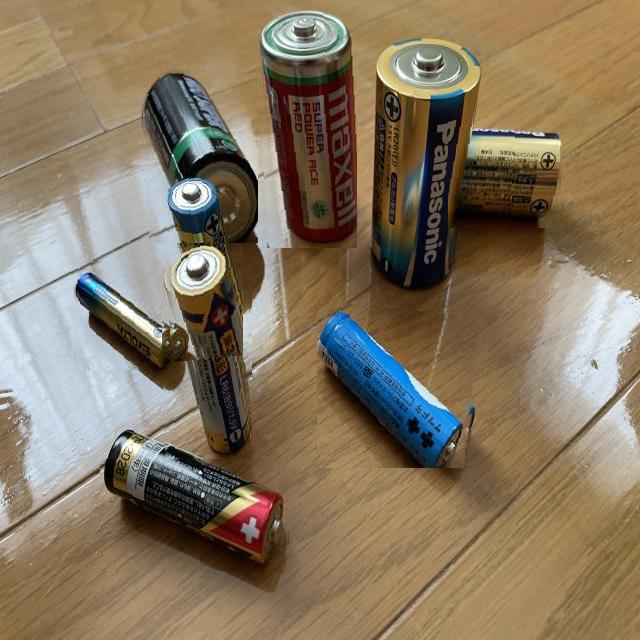battery: (365, 33, 489, 294), (100, 426, 290, 572), (317, 301, 481, 468), (255, 7, 358, 248), (140, 64, 258, 243), (160, 246, 252, 460), (158, 169, 244, 362), (448, 118, 566, 228), (70, 259, 181, 370)
